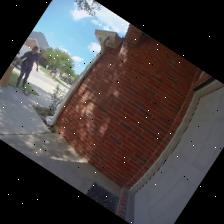person: (12, 46, 38, 90)
